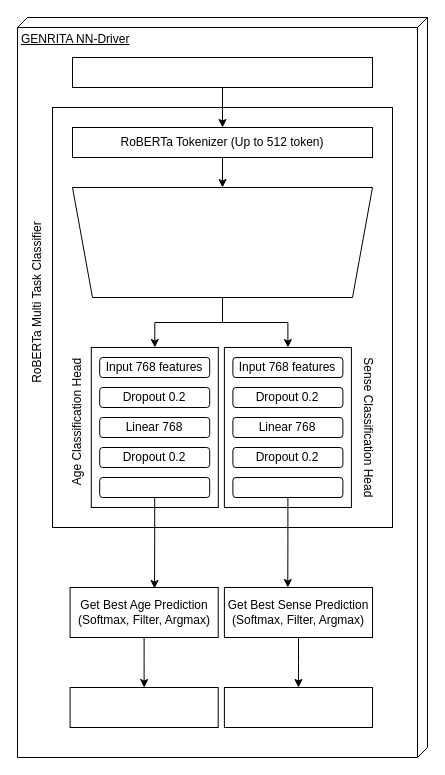
The diagram is 445 pixels wide and 775 high, and some of its shapes have lost their labels. Each missing label, with the box of its shape:
Final Age Prediction: (69, 686, 218, 728)
Final Sense Prediction: (223, 686, 372, 728)
Linear 11: (232, 476, 343, 498)
Linear 3: (99, 476, 210, 498)
RoBERTa Base 125M (Shared Encoder): (72, 186, 372, 298)
Text Cleaner (DataProcessor): (72, 56, 372, 88)
